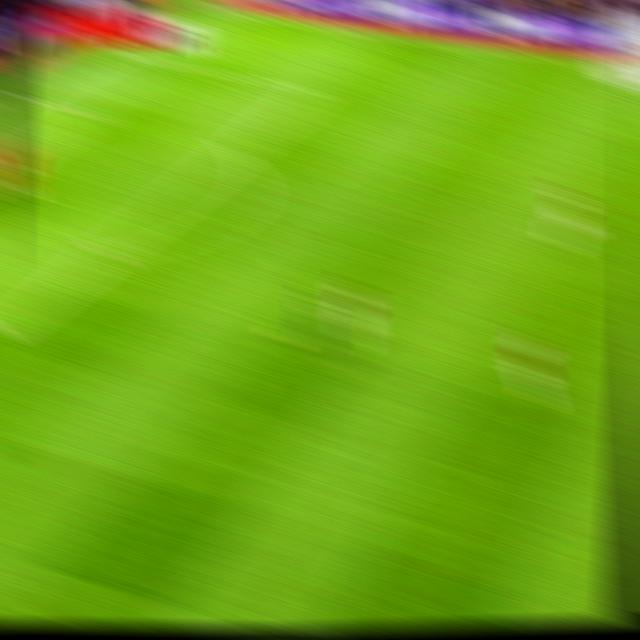bigarea_top_inner: (299, 76, 333, 103)
bigarea_top_outter: (5, 85, 39, 109), (99, 40, 132, 61)
bottom_arc_area_intersection: (90, 237, 125, 266)
corner: (183, 0, 222, 16)
smallarea_top_inner: (75, 101, 111, 127)
smallarea_top_outter: (5, 85, 39, 109)
top_arc_area_intersection: (219, 138, 253, 165)
